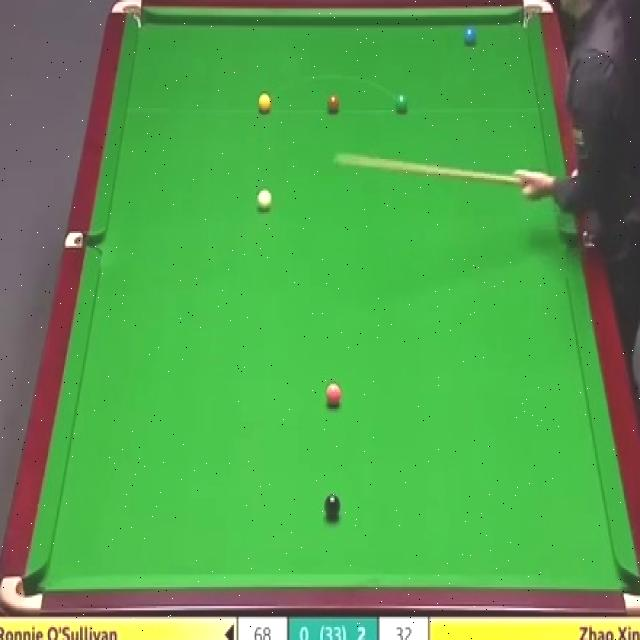black-ball: (323, 492, 341, 520)
blue-ball: (462, 26, 477, 45)
brown-ball: (325, 92, 341, 114)
green-ball: (393, 93, 408, 115)
pink-ball: (324, 383, 341, 407)
white-ball: (256, 188, 271, 211)
yellow-ball: (257, 91, 272, 113)
